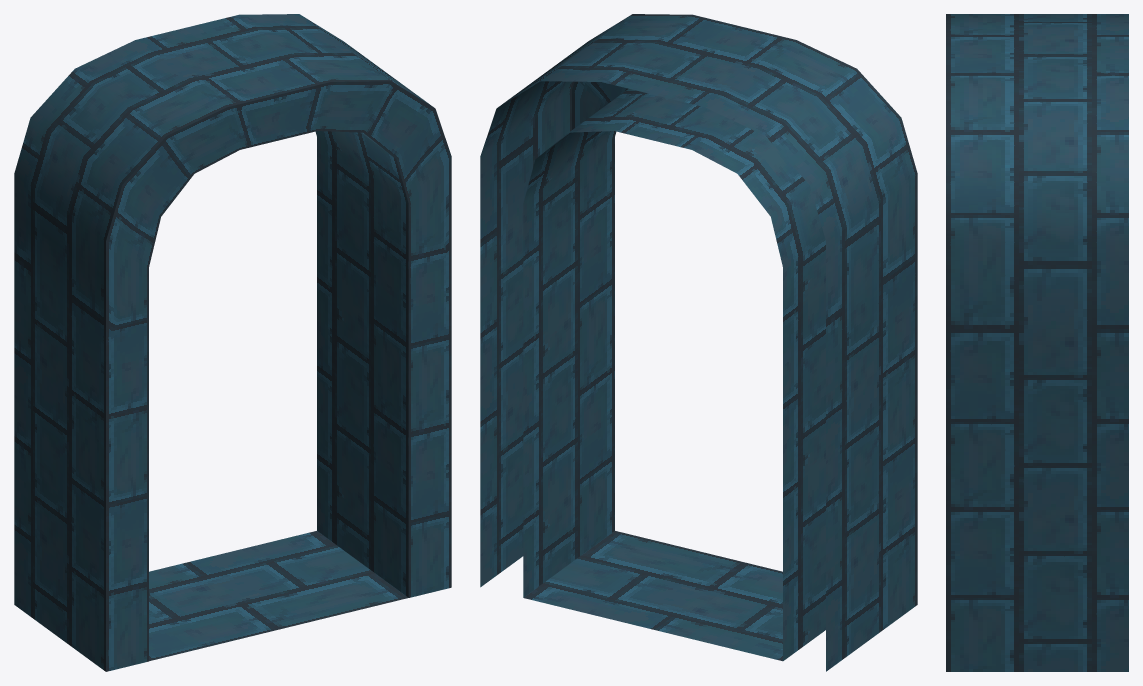
File: BrickPassage.fbx
3 views of the same model, side by side, from view 1: azimuth 30°, elevation 25°; view 2: azimuth 150°, elevation 25°; view 3: azimuth 270°, elevation 25° (orthographic).
Parts seen in each view (by area): view 1: BrickPassage; view 2: BrickPassage; view 3: BrickPassage.
Boxes of the visible parts, box(x1,y1,x2,y2) form: BrickPassage: box(14, 14, 451, 671); BrickPassage: box(480, 14, 917, 671); BrickPassage: box(946, 14, 1128, 671).
Size of the model in its own units: 1.2 by 1.77 by 0.5509.
